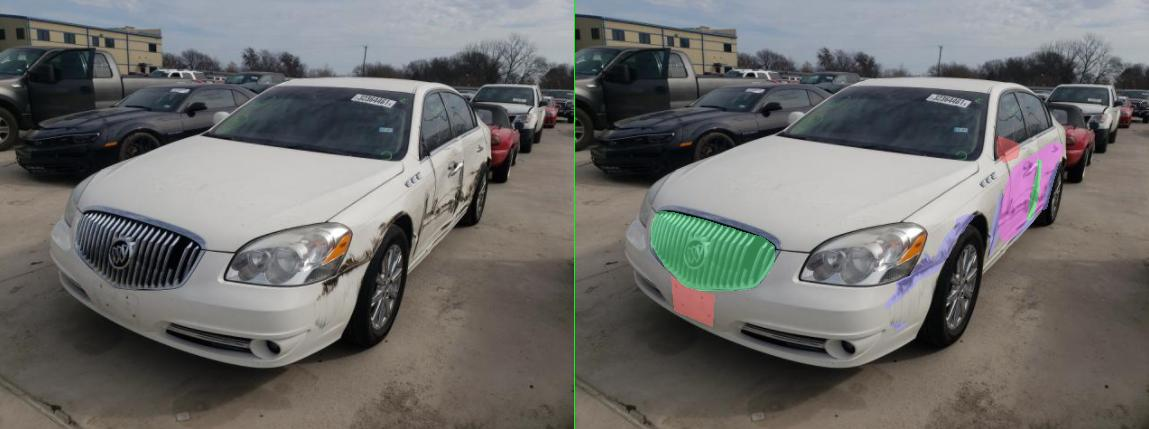Broken part: (152, 211, 398, 291), (905, 159, 933, 220)
Dent: (849, 142, 977, 242)
Missing part: (192, 276, 278, 326), (845, 136, 889, 162)
Scratch: (621, 214, 799, 310), (831, 161, 969, 256), (871, 210, 927, 244), (633, 322, 665, 330)
